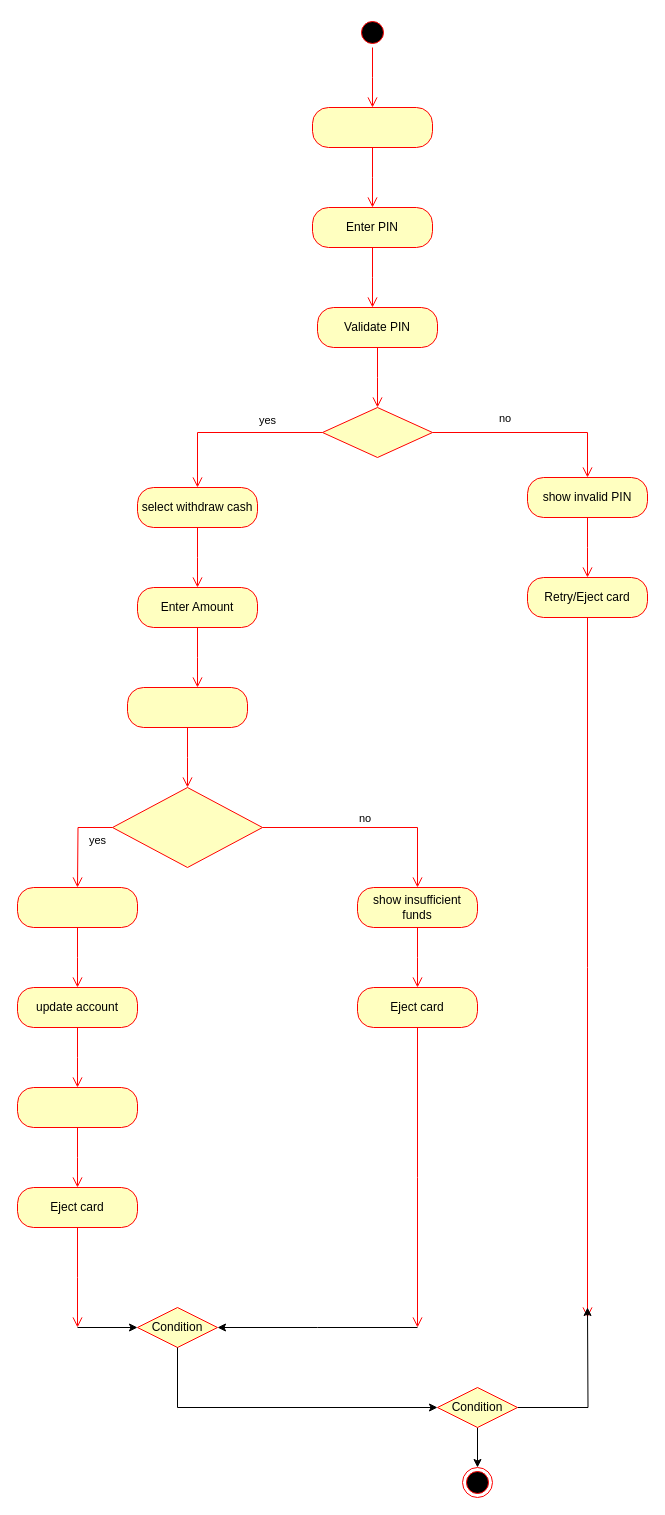
Image size: 665x1515. Some labels were removed from this diagram. Each missing label, with the box of its shape:
check balance: (126, 686, 248, 728)
Dispense cash: (16, 886, 138, 928)
Insert card: (312, 106, 432, 148)
PIN Correct: (322, 406, 432, 458)
print receipt: (16, 1086, 138, 1128)
sufficient balance ?: (112, 786, 262, 868)
